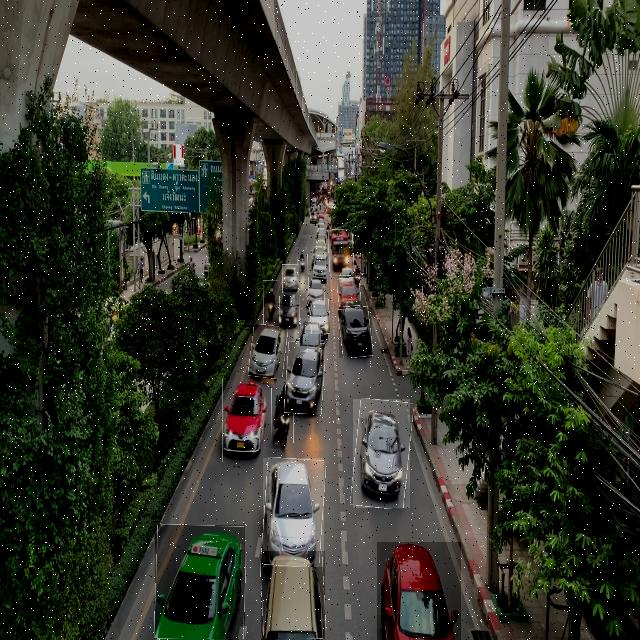Bus: (329, 229, 354, 276)
Car: (155, 525, 245, 640), (377, 542, 461, 640), (263, 458, 324, 567), (353, 399, 410, 508), (261, 551, 325, 640), (222, 378, 267, 462), (285, 342, 324, 413), (250, 325, 286, 379), (339, 307, 372, 358), (279, 289, 300, 330), (337, 278, 361, 307), (300, 318, 320, 352), (310, 299, 329, 334), (308, 276, 325, 310), (312, 250, 328, 284), (282, 264, 299, 293)
Motorcycle: (272, 380, 294, 450), (263, 280, 278, 327), (298, 248, 308, 282)
